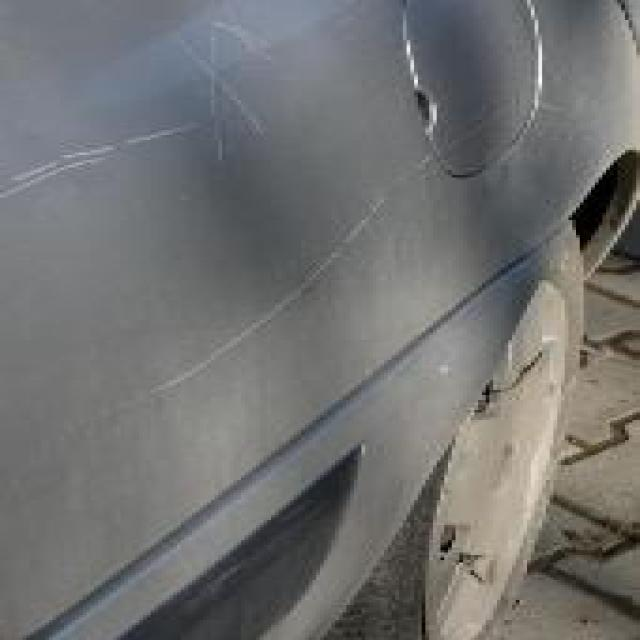Fender: (23, 2, 568, 420)
